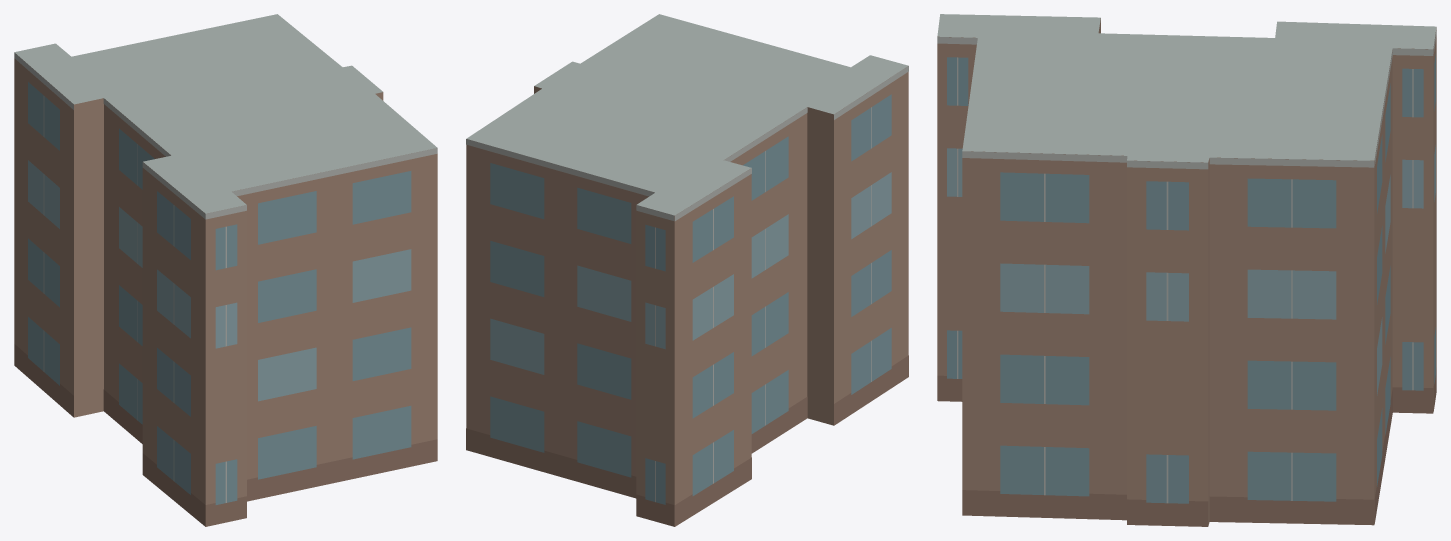
The model's file is survey-upis-32735226.glb.
The picture shows the model from 3 angles, left to right: view 1: azimuth 30°, elevation 25°; view 2: azimuth 150°, elevation 25°; view 3: azimuth 270°, elevation 25°; orthographic projection. The views are drawn at different scales.
Visible parts, largest first — view 1: survey-upis-32735226.tmp; view 2: survey-upis-32735226.tmp; view 3: survey-upis-32735226.tmp.
Part boxes in pixels (box(x1,y1,x2,y2)): survey-upis-32735226.tmp: box(14, 14, 437, 526); survey-upis-32735226.tmp: box(466, 14, 908, 526); survey-upis-32735226.tmp: box(937, 14, 1436, 526).
Size of the model in its own units: 11.42 by 13.05 by 16.22.
